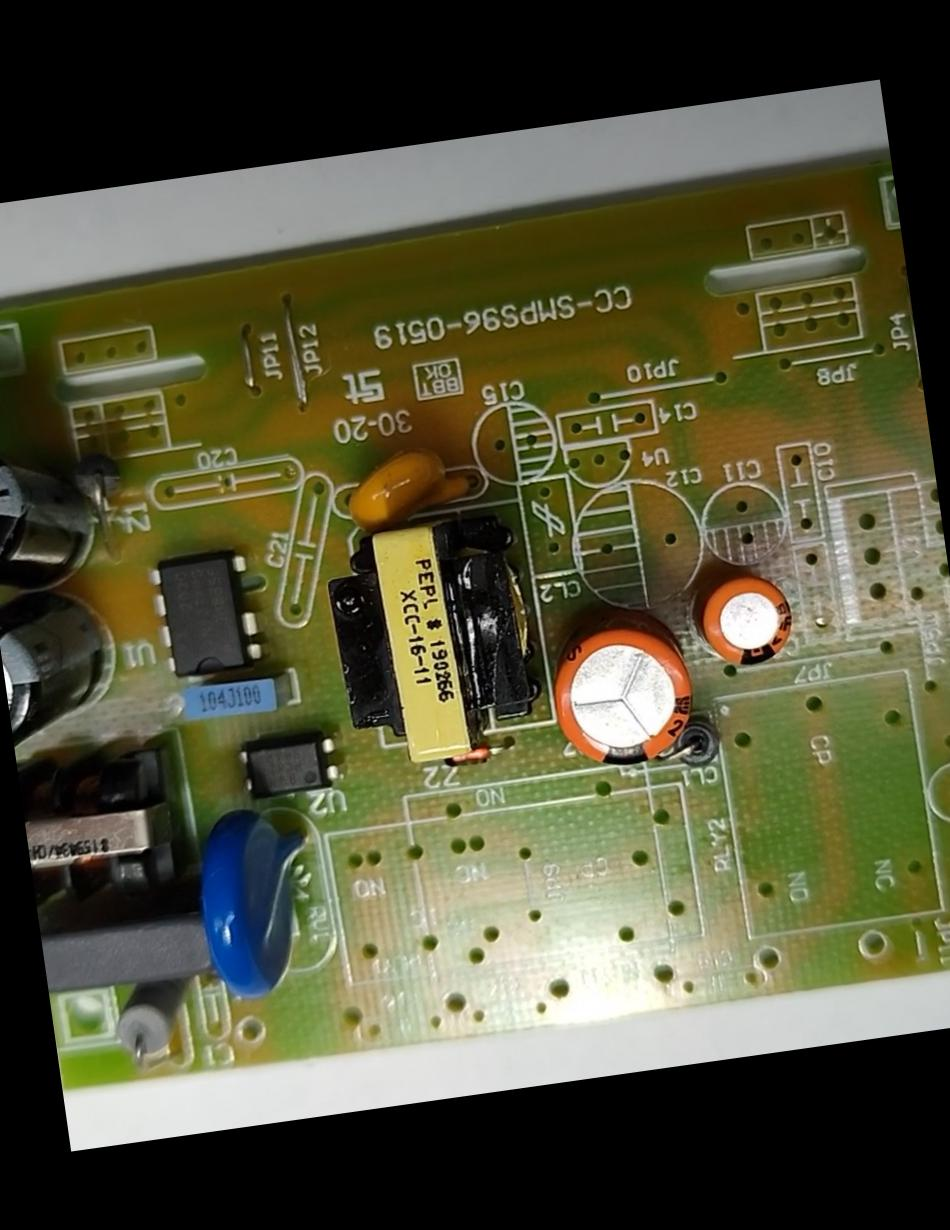Cap1: (538, 613, 704, 778)
Cap2: (688, 566, 802, 678)
Cap3: (0, 579, 135, 759)
Cap4: (0, 418, 116, 600)
MOSFET: (141, 544, 269, 690)
Mov: (180, 797, 335, 1003)
Resistor: (98, 970, 206, 1062)
Transformer: (316, 502, 562, 780), (14, 730, 204, 928)
